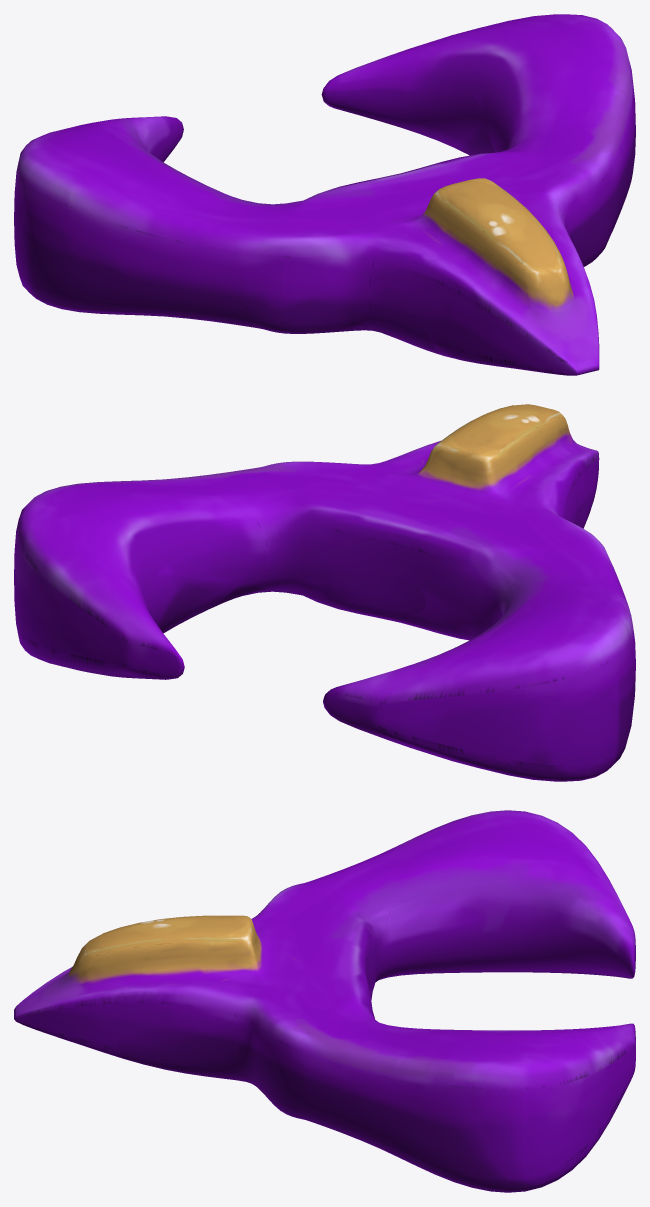
The model's file is ship.obj.
3 views of the same model, one above another, from view 1: azimuth 30°, elevation 25°; view 2: azimuth 150°, elevation 25°; view 3: azimuth 270°, elevation 25° (orthographic). The views are drawn at different scales.
Parts seen in each view (by area): view 1: Cube_Cube.001; view 2: Cube_Cube.001; view 3: Cube_Cube.001.
Boxes of the visible parts, x1=… form: Cube_Cube.001: x1=14, y1=14, x2=635, y2=375; Cube_Cube.001: x1=14, y1=404, x2=635, y2=781; Cube_Cube.001: x1=14, y1=810, x2=635, y2=1192.
Size of the model in its own units: 8.95 by 2.21 by 8.8.
Materials: 1 (1 with a texture image).
